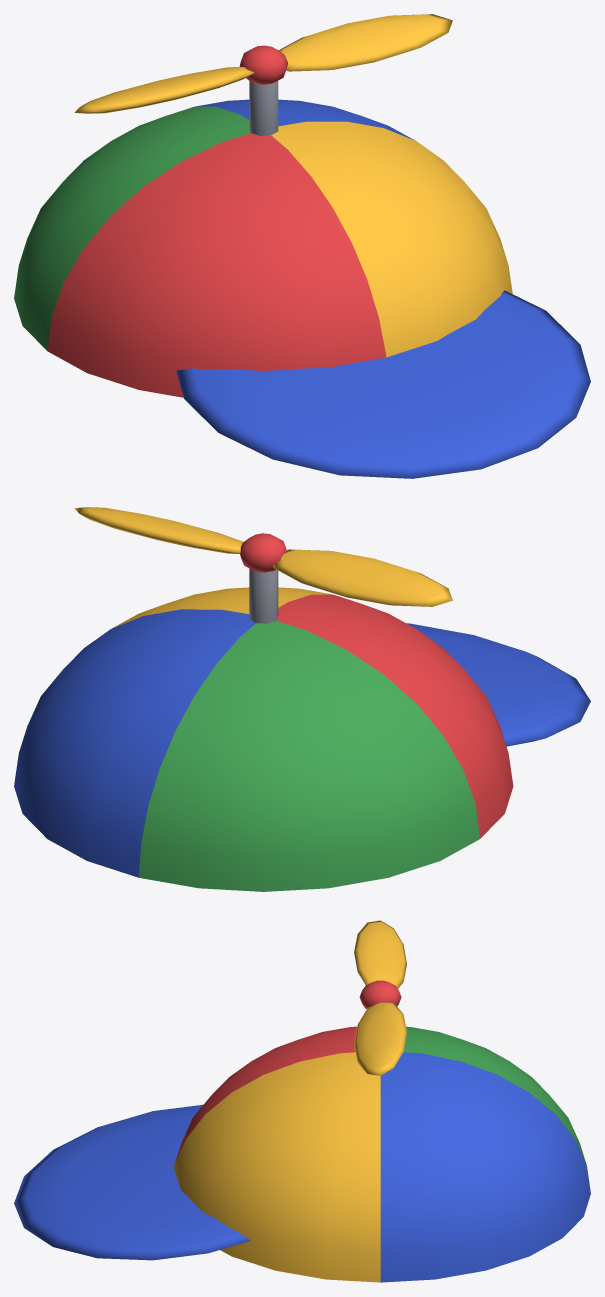
File: hat_propeller.glb
3 renders of one model, top to bottom at view 1: azimuth 30°, elevation 25°; view 2: azimuth 150°, elevation 25°; view 3: azimuth 270°, elevation 25°, orthographic. The views are drawn at different scales.
Parts seen in each view (by area): view 1: hat_propeller; view 2: hat_propeller; view 3: hat_propeller.
Part boxes in pixels (x1,y1,x2,y2): hat_propeller: (14,14,590,478); hat_propeller: (14,507,590,891); hat_propeller: (14,920,590,1282).
Bounding box in the file's own units: 0.4 × 0.2359 × 0.5484.
